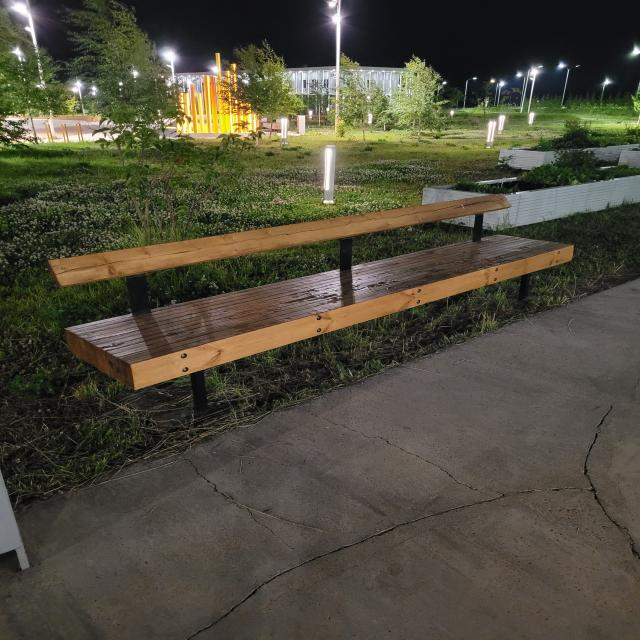Bench: (47, 193, 574, 411)
